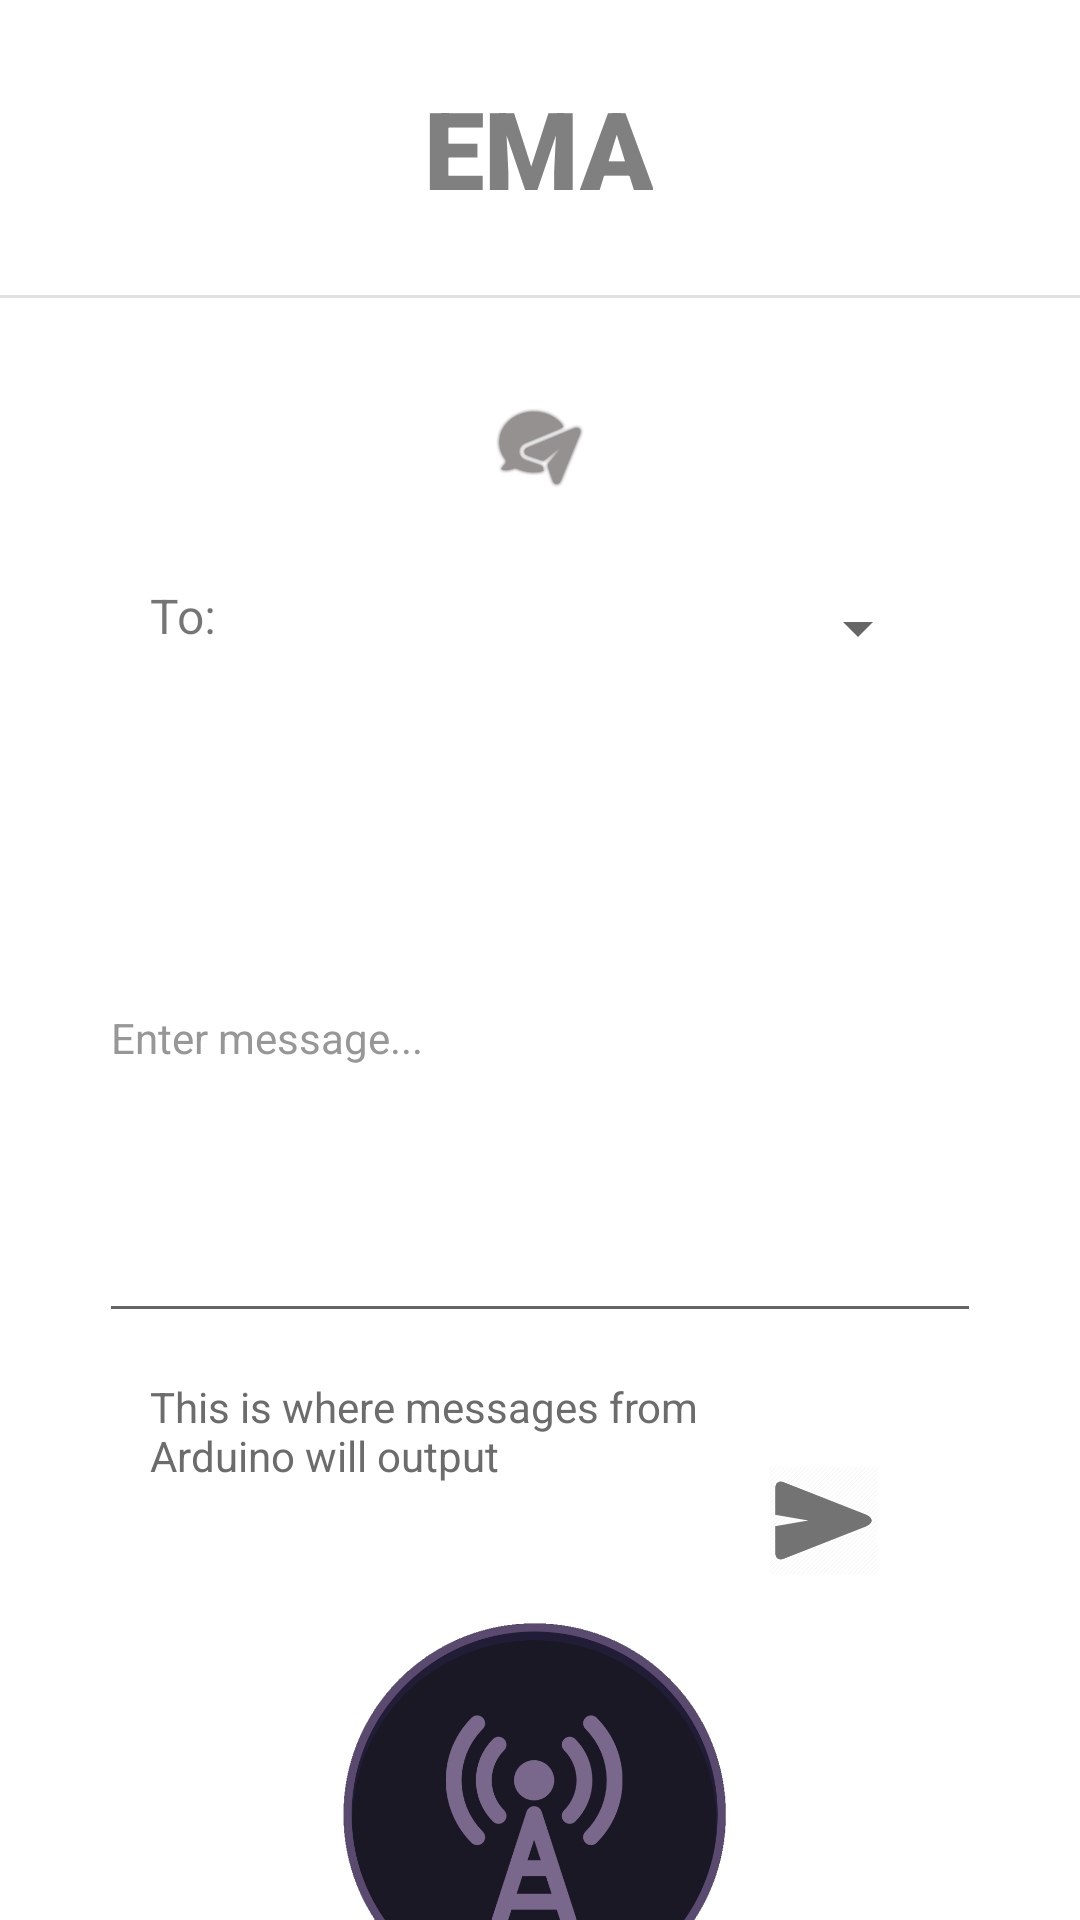

Icon click points for this 1080 x 1920 phone screenshot, format point (x, y):
send: point (823, 1520)
